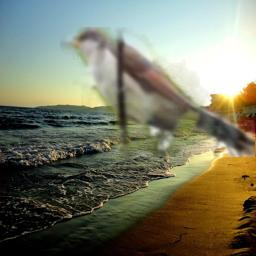Cuckoo: (60, 27, 255, 157)
